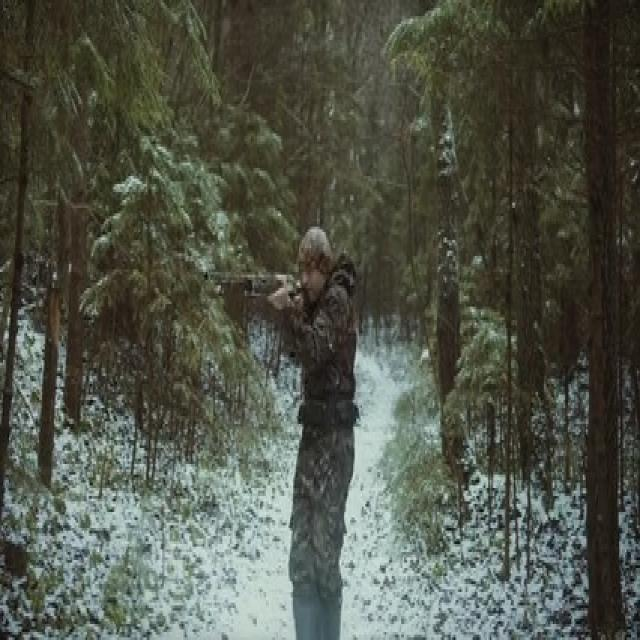Gun_Holder: (209, 266, 311, 312)
Person: (274, 217, 364, 635)
